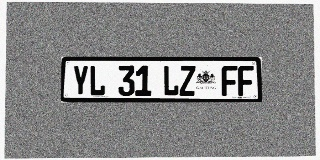1: (135, 65, 151, 96)
3: (118, 65, 135, 96)
F: (221, 65, 237, 96), (238, 66, 254, 96)
L: (89, 65, 105, 96), (163, 65, 179, 96)
Y: (72, 65, 89, 96)
Z: (179, 65, 195, 96)
